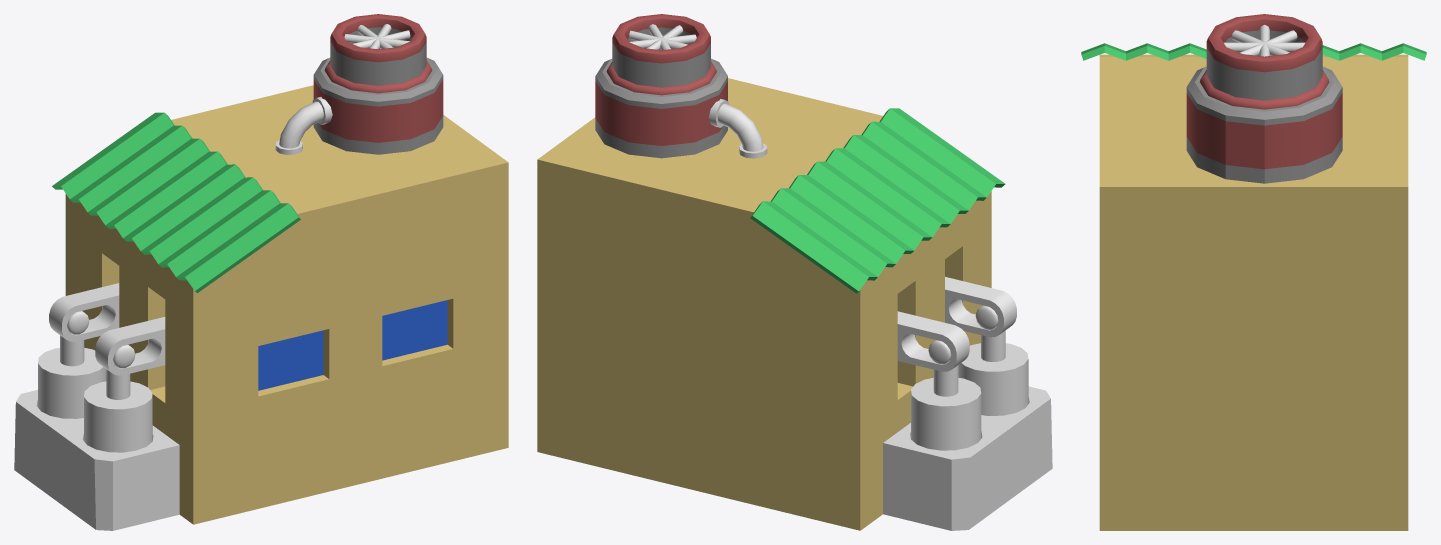
File: Building_6_2.FBX
3 views of the same model, side by side, from view 1: azimuth 30°, elevation 25°; view 2: azimuth 150°, elevation 25°; view 3: azimuth 270°, elevation 25° (orthographic). The views are drawn at different scales.
Parts seen in each view (by area): view 1: Box001, Box005, Cylinder006, Tube001, Cylinder002, Cylinder005, Cylinder003, Cylinder004, Torus002, Torus001; view 2: Box001, Box005, Cylinder006, Tube001, Cylinder005, Cylinder002, Cylinder004, Cylinder003, Torus002, Torus001; view 3: Box001, Cylinder006, Tube001, Torus001, Cylinder008, Cylinder009, Cylinder010.
Boxes of the visible parts, <box> form: Box001: <box>52,85,508,524</box>; Box005: <box>14,390,179,530</box>; Cylinder006: <box>313,57,443,154</box>; Tube001: <box>330,14,426,85</box>; Cylinder002: <box>84,364,152,452</box>; Cylinder005: <box>38,331,106,418</box>; Cylinder003: <box>95,317,165,375</box>; Cylinder004: <box>49,283,119,341</box>; Torus002: <box>279,101,323,148</box>; Torus001: <box>324,61,432,93</box>; Box001: <box>537,78,1005,530</box>; Box005: <box>883,386,1052,530</box>; Cylinder006: <box>595,58,727,158</box>; Tube001: <box>612,14,710,87</box>; Cylinder005: <box>911,360,981,450</box>; Cylinder002: <box>958,326,1028,415</box>; Cylinder004: <box>897,311,969,371</box>; Cylinder003: <box>945,277,1016,337</box>; Torus002: <box>717,103,763,151</box>; Torus001: <box>606,61,716,95</box>; Box001: <box>1081,43,1426,530</box>; Cylinder006: <box>1186,66,1342,183</box>; Tube001: <box>1206,14,1322,100</box>; Torus001: <box>1200,70,1329,109</box>; Cylinder008: <box>1224,42,1305,52</box>; Cylinder009: <box>1239,30,1297,55</box>; Cylinder010: <box>1231,30,1289,55</box>.
Bounding box in the file's own units: 88.8 × 81.93 × 55.98.
